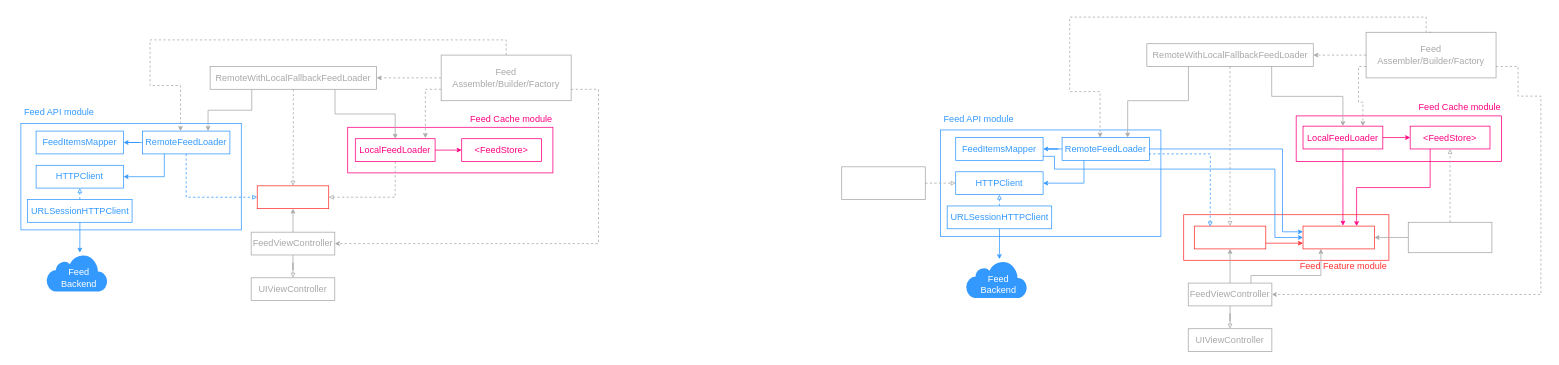
Some shapes in this 1559 by 365 pixel diagram are drawn without their labels. The shapes that lost their labels are listed below. From the top down, each one's centre as x and y in pixels, then its label:
At pixel 292 197: "<Feed Feature>".
At pixel 883 183: "AnyHTTPClient Implementation".
At pixel 1230 237: "<FeedLoader>".
At pixel 1338 237: "FeedItem".
At pixel 1450 237: "AnyFeedStore Implementation".
